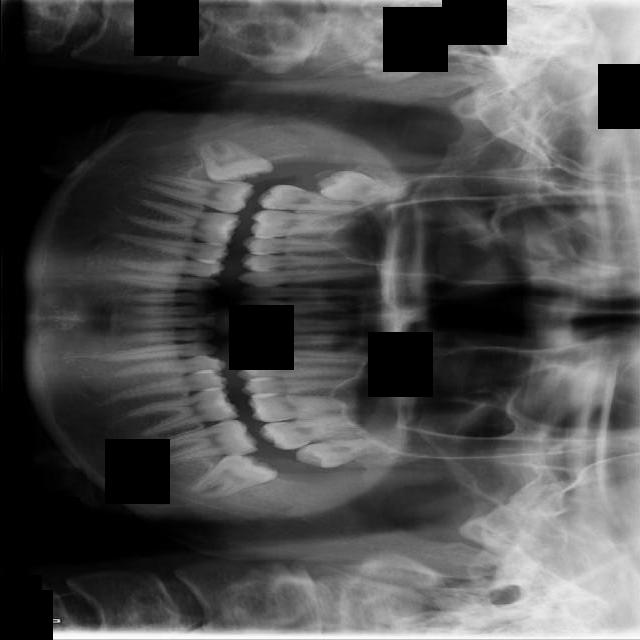3M ESPE Implant: (314, 167, 408, 209)
73: (70, 614, 76, 618)
BioHorizons Implant: (256, 413, 383, 452)
BioLife Implant: (293, 431, 392, 473)
Biomet 3i Implant: (180, 440, 280, 509)
Blue Sky Bio Implant: (143, 416, 258, 466)
Caries: (257, 184, 376, 213)
Implant: (141, 173, 255, 215)
Keystone Dental Implant: (196, 136, 274, 187)
